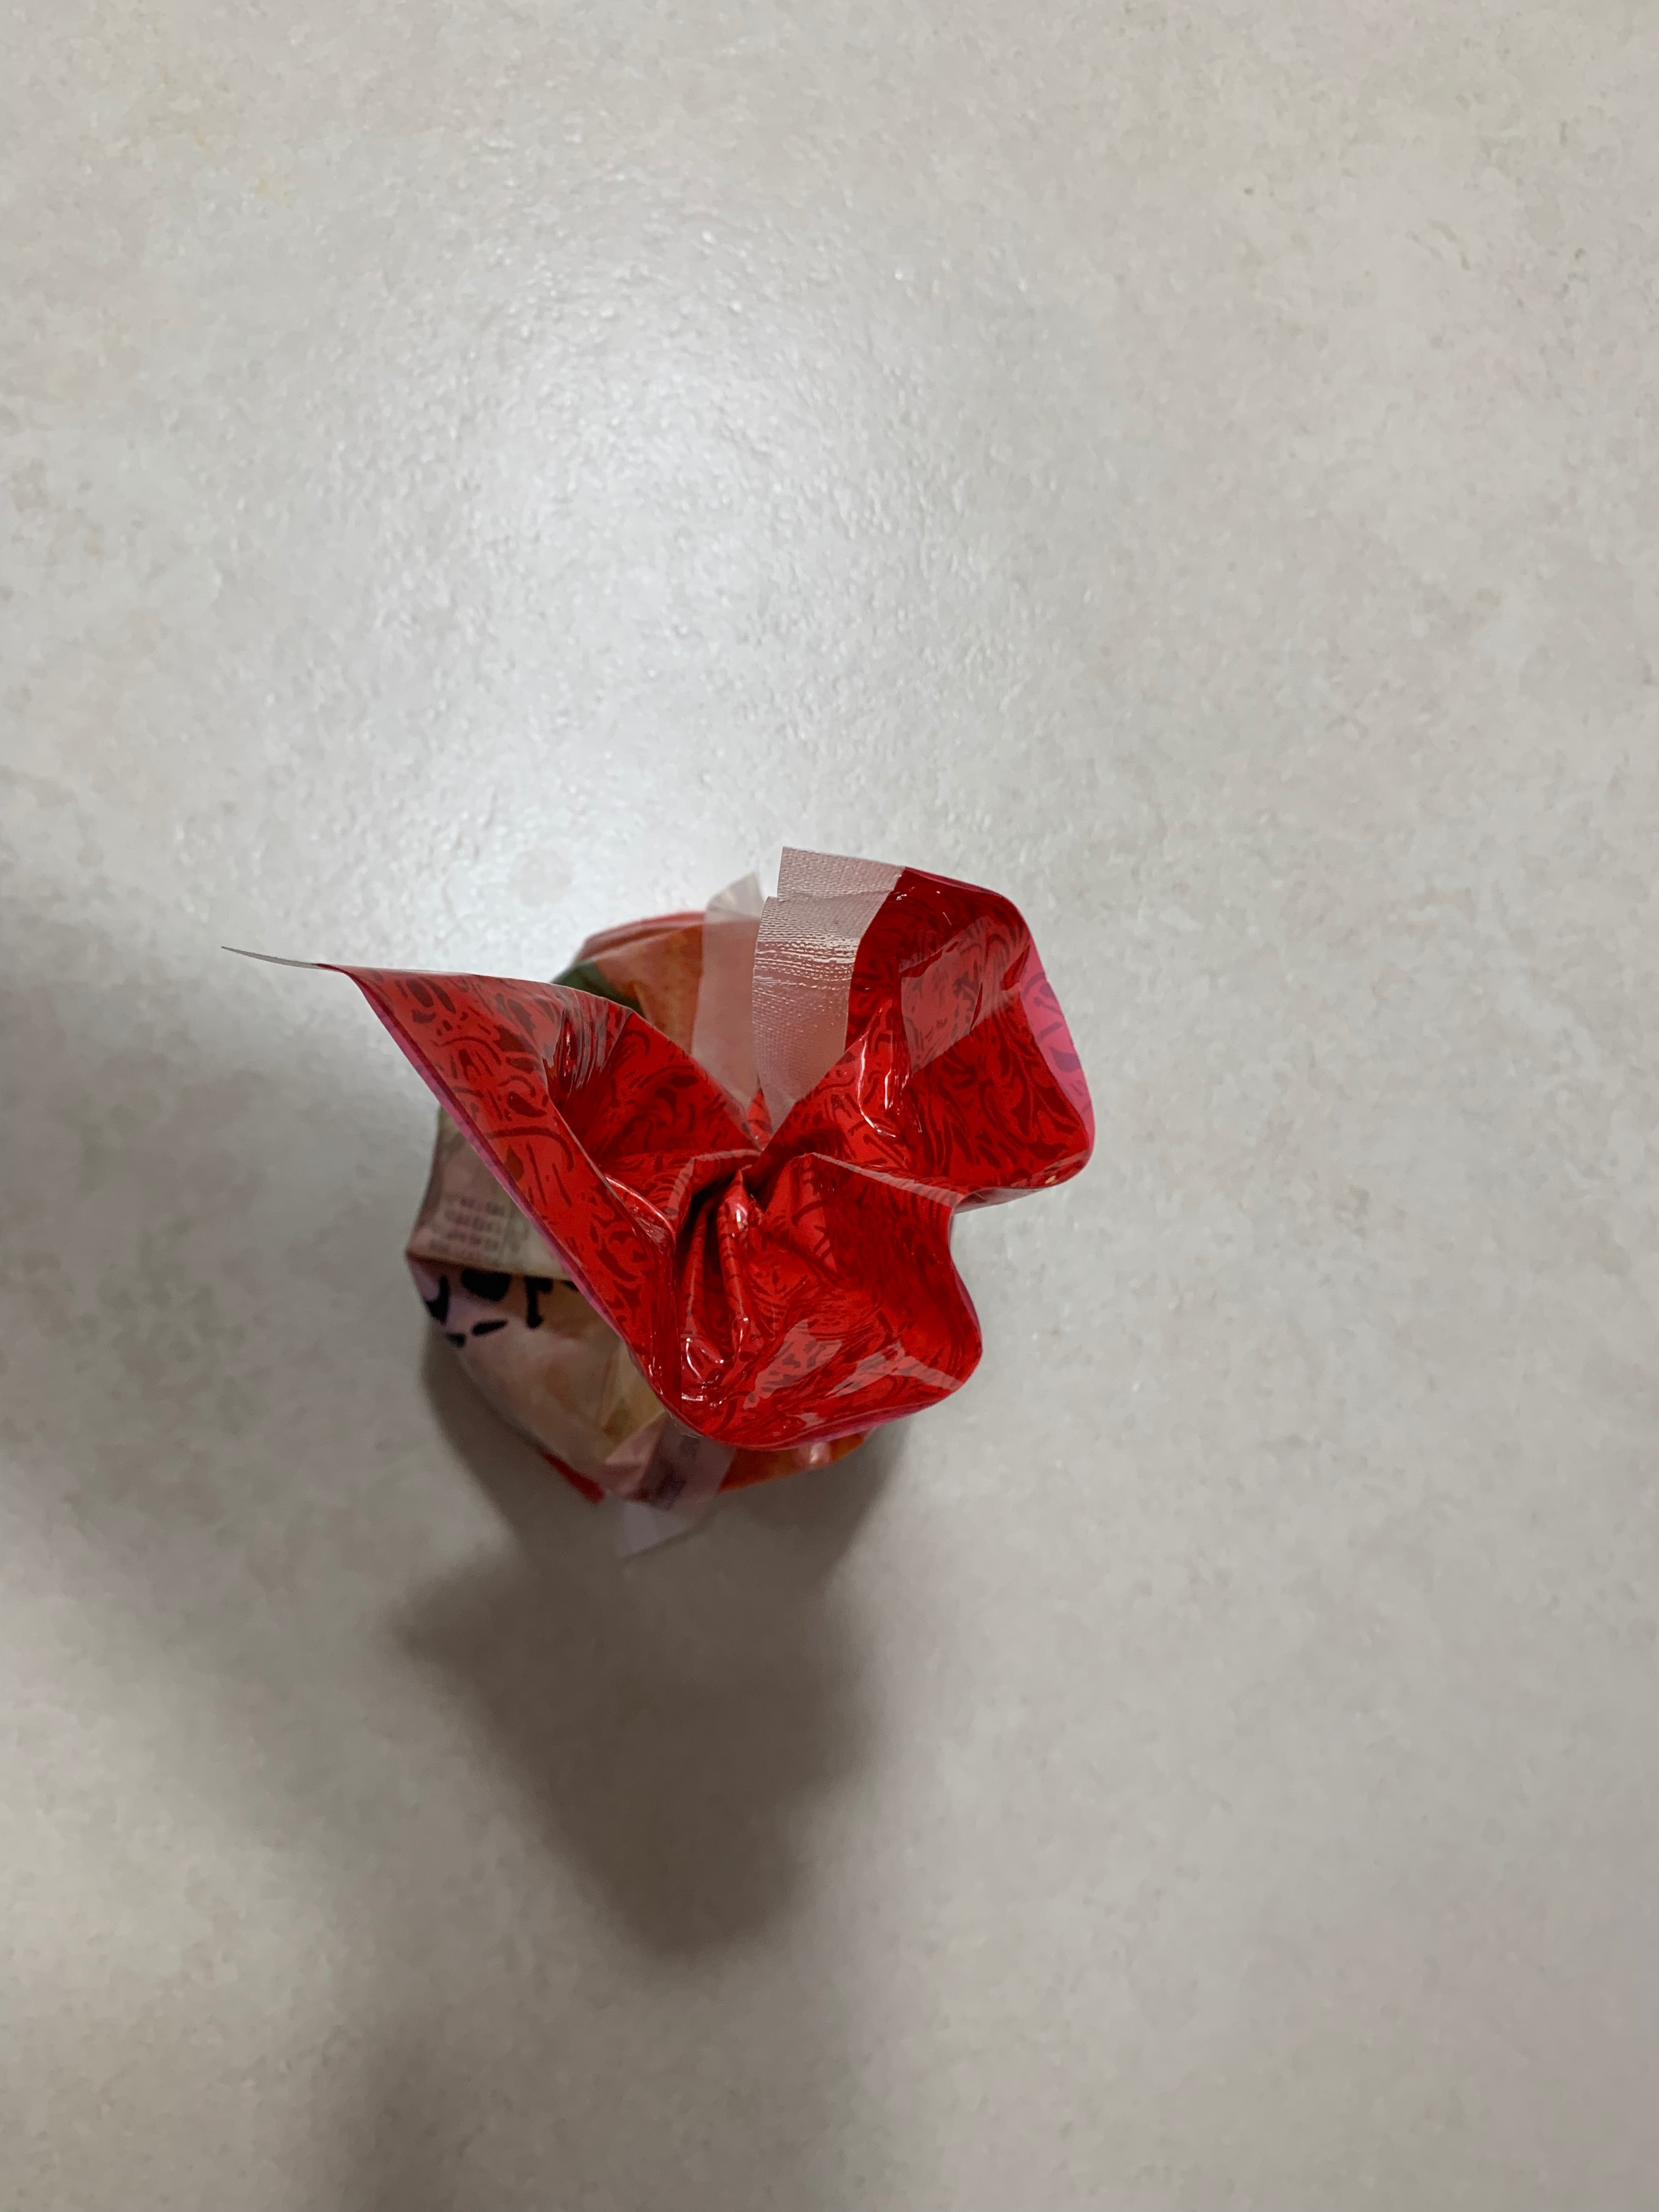kimchi: (347, 867, 1098, 1501)
